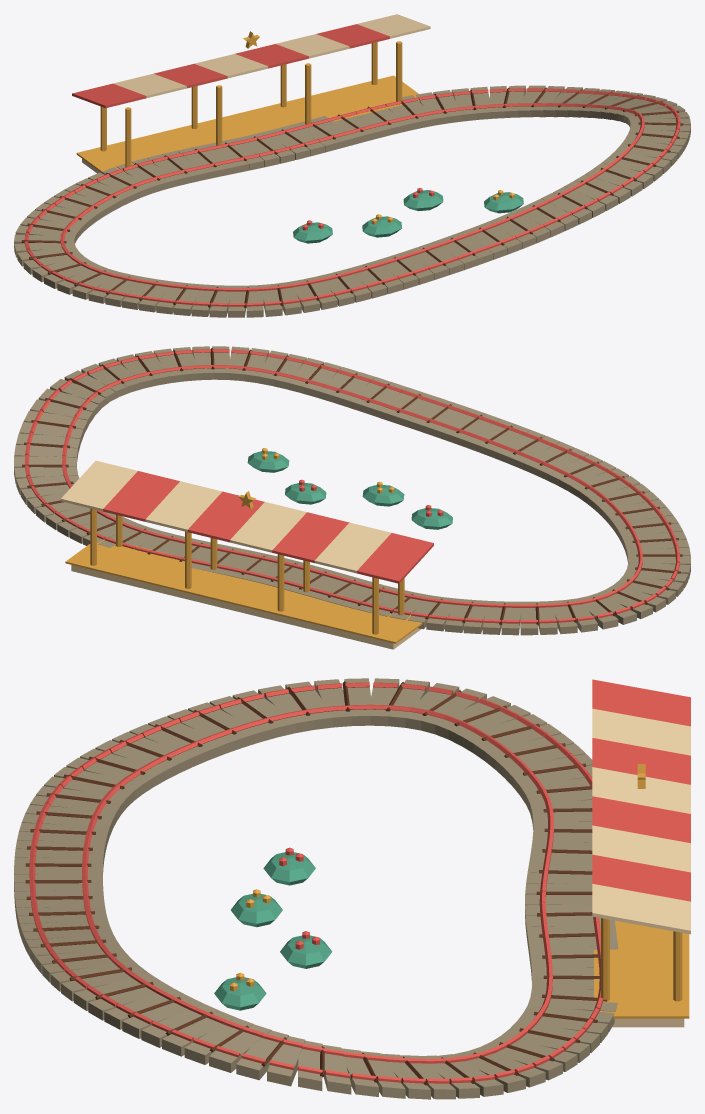
Rendered from ParkParkTrainTrackV2.obj.
The picture shows the model from 3 angles, top to bottom: view 1: azimuth 30°, elevation 25°; view 2: azimuth 150°, elevation 25°; view 3: azimuth 270°, elevation 25°; orthographic projection. The views are drawn at different scales.
Parts seen in each view (by area): view 1: ParkParkTrainTrackV2; view 2: ParkParkTrainTrackV2; view 3: ParkParkTrainTrackV2.
Part boxes in pixels (x1,y1,x2,y2): ParkParkTrainTrackV2: (14, 14, 690, 317); ParkParkTrainTrackV2: (14, 346, 690, 649); ParkParkTrainTrackV2: (14, 678, 690, 1099).
Size of the model in its own units: 32.08 by 5.25 by 20.58.
